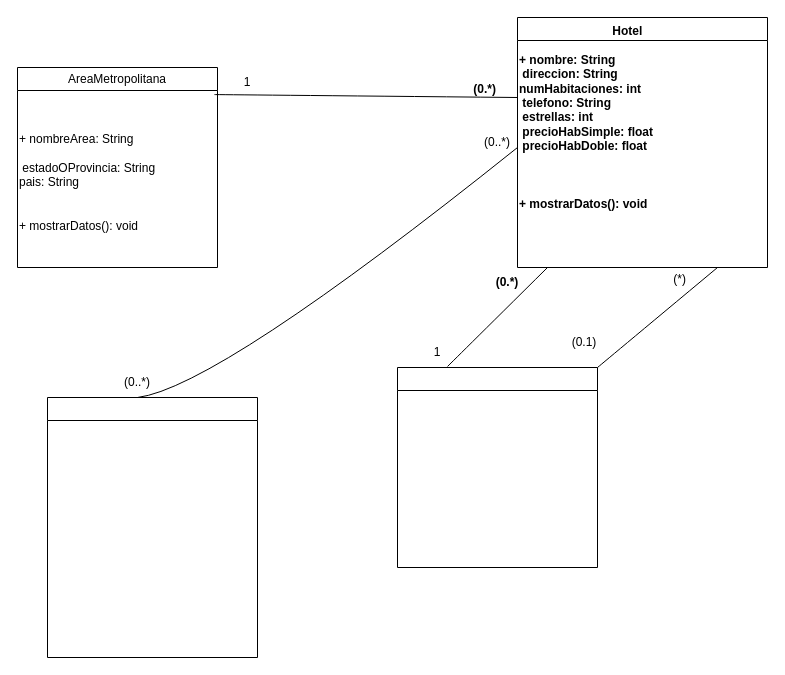
The diagram is 785 pixels wide and 675 high, and some of its shapes have lost their labels. The centre of each missing label's shape, as x and y in pixels:
"CadenaHotelera + nombre: String director: String + mostrarDatos(): void" goes at (497,467).
"TarjetaCredito + nombre: String + mostrarDatos(): void" goes at (152,527).
